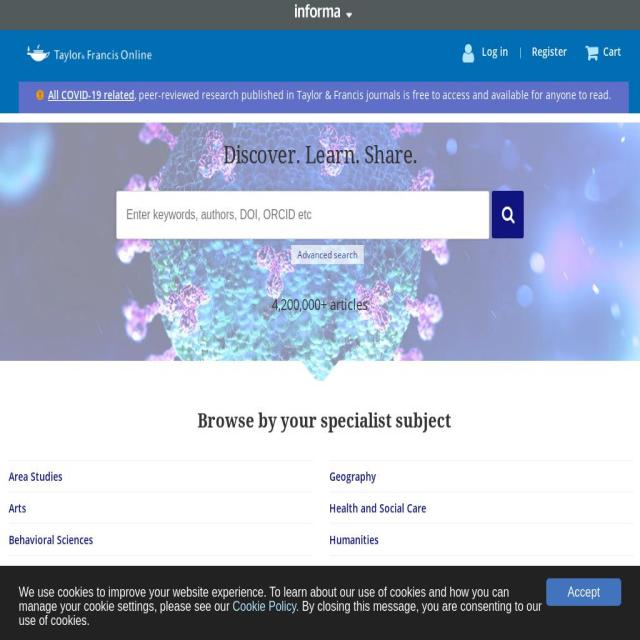button: (546, 577, 622, 606), (585, 43, 622, 62)
field: (117, 191, 490, 240), (491, 191, 524, 239)
heading: (9, 141, 631, 170), (9, 409, 640, 433)
image: (0, 122, 640, 381), (26, 44, 152, 64)
link: (9, 499, 295, 516), (9, 594, 295, 611), (330, 499, 616, 516), (330, 594, 616, 611), (9, 468, 295, 484), (9, 531, 295, 547), (9, 563, 295, 579), (330, 468, 616, 484), (330, 531, 616, 547), (330, 563, 616, 579), (9, 626, 295, 640), (330, 626, 616, 640), (48, 86, 134, 102), (232, 598, 300, 614), (298, 248, 358, 262), (531, 43, 567, 60), (481, 43, 511, 60)
text: (19, 598, 541, 628), (19, 584, 509, 614), (9, 294, 631, 315), (134, 86, 612, 102), (294, 0, 346, 26), (603, 43, 622, 59), (516, 44, 524, 60)
